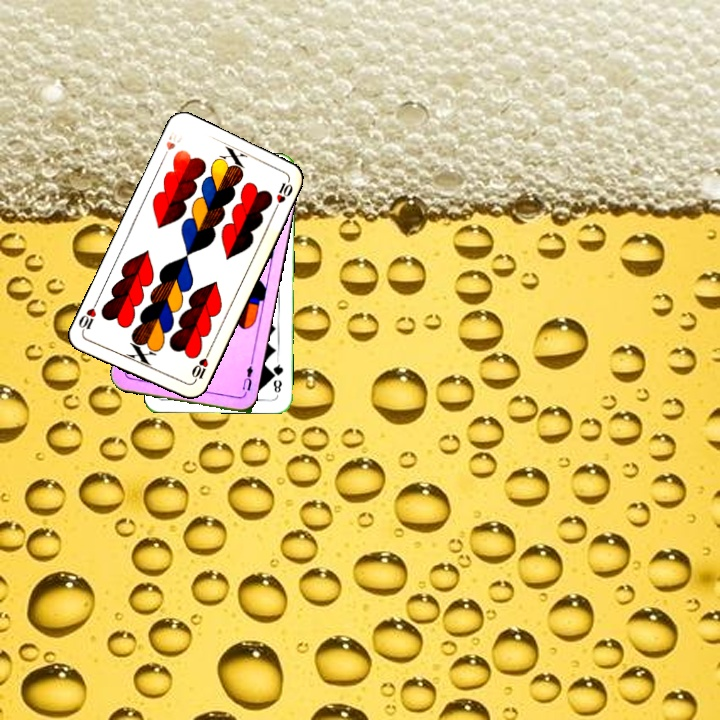EU: (238, 358, 256, 398)
G8: (269, 357, 285, 395)
H10: (187, 348, 212, 386), (158, 128, 185, 163)
